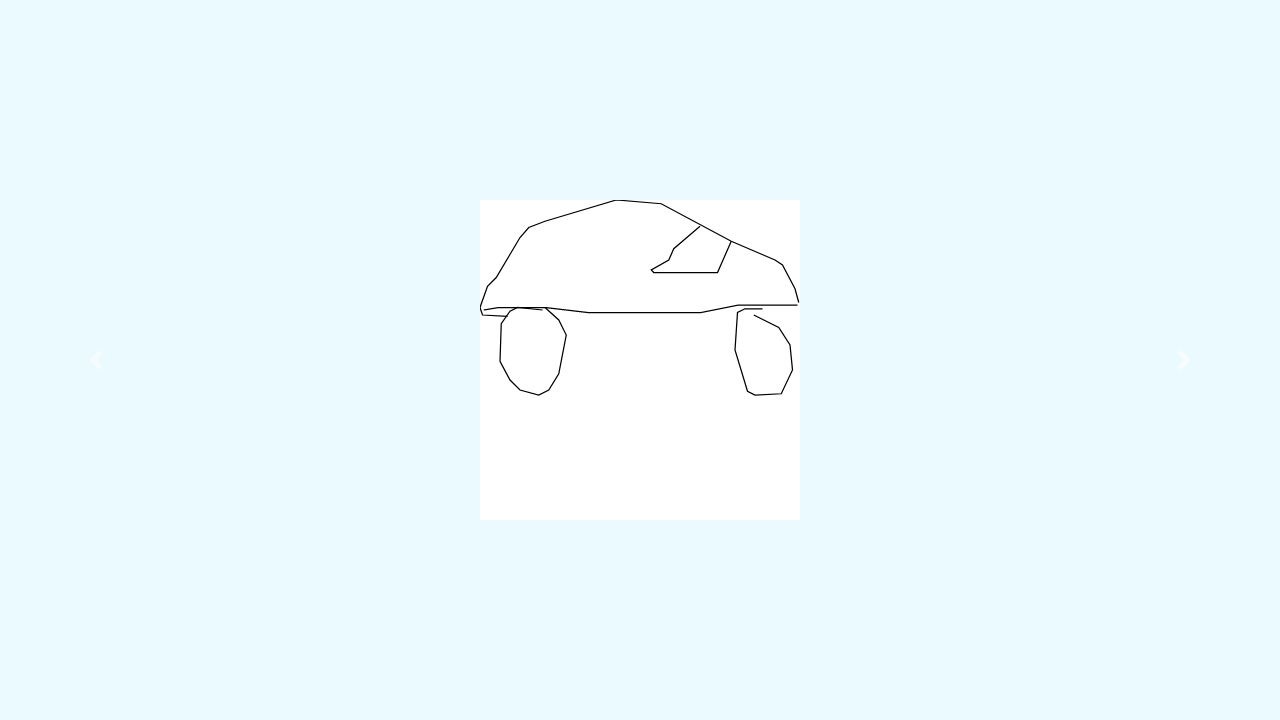car: (478, 199, 804, 400)
